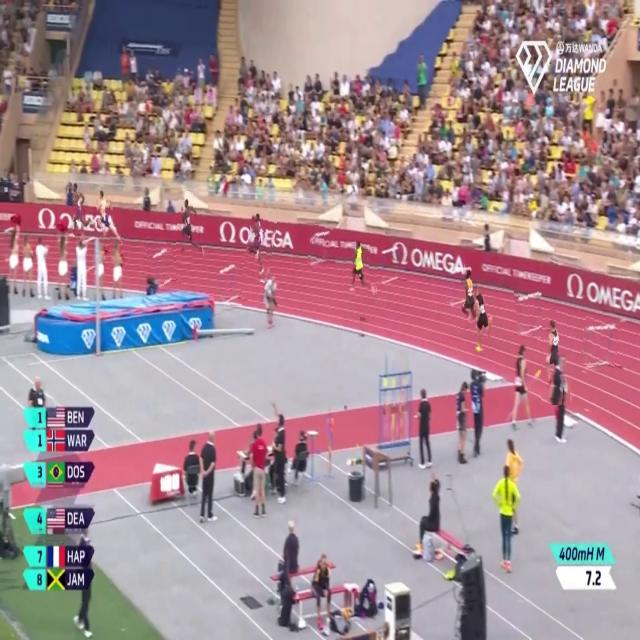athlete: (542, 311, 570, 405), (244, 209, 276, 282), (177, 192, 207, 264), (345, 237, 379, 297), (472, 281, 495, 368), (94, 187, 124, 253), (70, 174, 96, 240), (461, 264, 477, 329)
hurdle: (582, 316, 619, 368), (515, 284, 542, 339), (148, 244, 177, 290), (217, 263, 242, 307), (308, 226, 332, 270), (381, 245, 402, 289)
